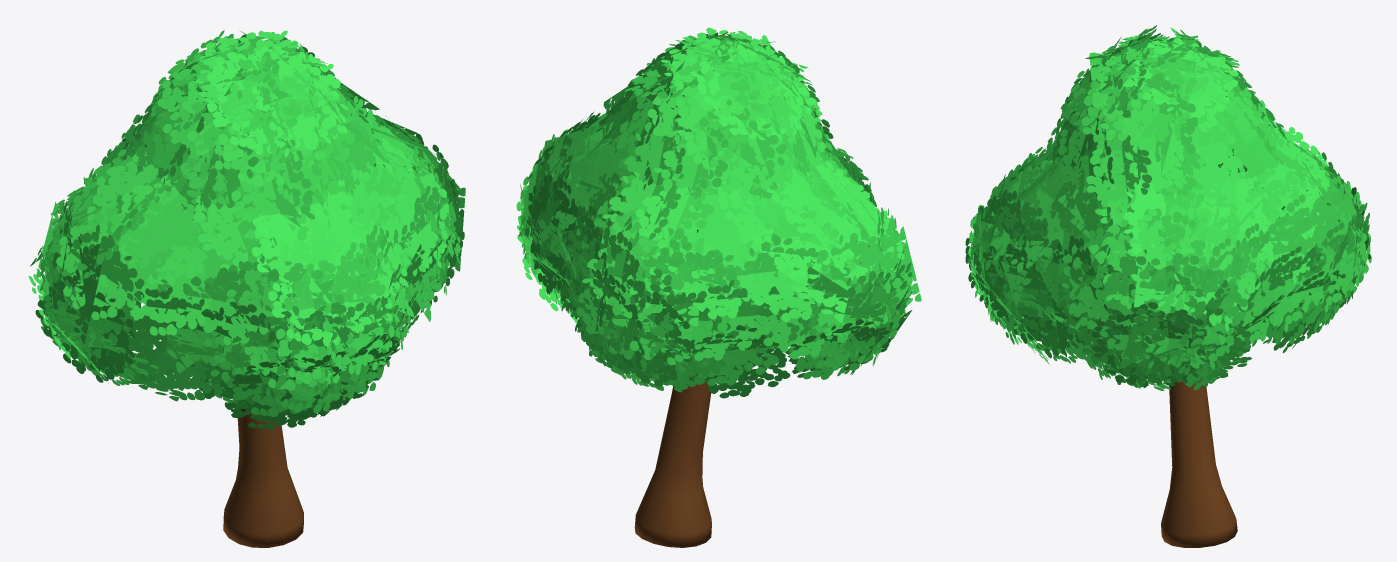
The model's file is Tree3Foliage.fbx.
The picture shows the model from 3 angles, left to right: view 1: azimuth 30°, elevation 25°; view 2: azimuth 150°, elevation 25°; view 3: azimuth 270°, elevation 25°; orthographic projection. The views are drawn at different scales.
Visible parts, largest first — view 1: Tree1; view 2: Tree1; view 3: Tree1.
Part boxes in pixels (x1,y1,x2,y2): Tree1: (28, 30, 465, 547); Tree1: (516, 27, 921, 547); Tree1: (965, 25, 1371, 547).
Size of the model in its own units: 465 by 596 by 504.
